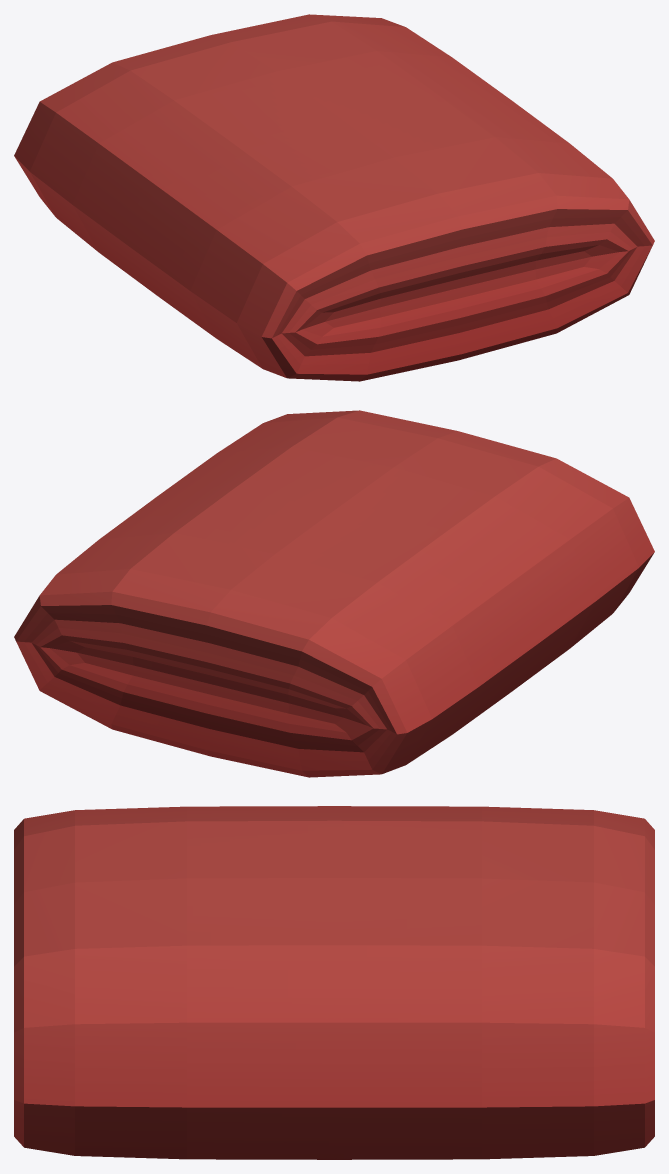
Rendered from Clothes1_C2.fbx.
The picture shows the model from 3 angles, top to bottom: view 1: azimuth 30°, elevation 25°; view 2: azimuth 150°, elevation 25°; view 3: azimuth 270°, elevation 25°; orthographic projection. The views are drawn at different scales.
Visible parts, largest first — view 1: Clothes1_C2; view 2: Clothes1_C2; view 3: Clothes1_C2.
Part boxes in pixels (x1=…): Clothes1_C2: x1=14, y1=14, x2=654, y2=381; Clothes1_C2: x1=14, y1=410, x2=654, y2=777; Clothes1_C2: x1=14, y1=806, x2=654, y2=1159.
Bounding box in the file's own units: 21.86 × 8.52 × 23.8.
